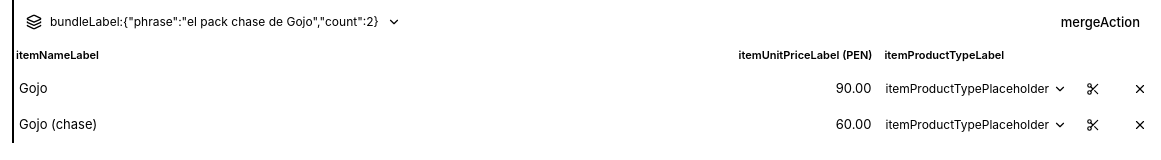
Scenario: IntakeGroupCard: editing a row › cannot be given a price the money parser refuses, because the cell sanitises as you type
Replace the text in the 1st field named "itemUnitPriceLabel" with "1,500" at (820, 89), box [766,73,876,104]
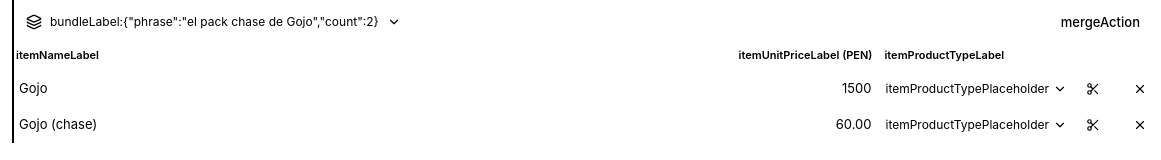
Expected: the 1st field named "itemUnitPriceLabel" holds "1500", [766,73,876,104]
